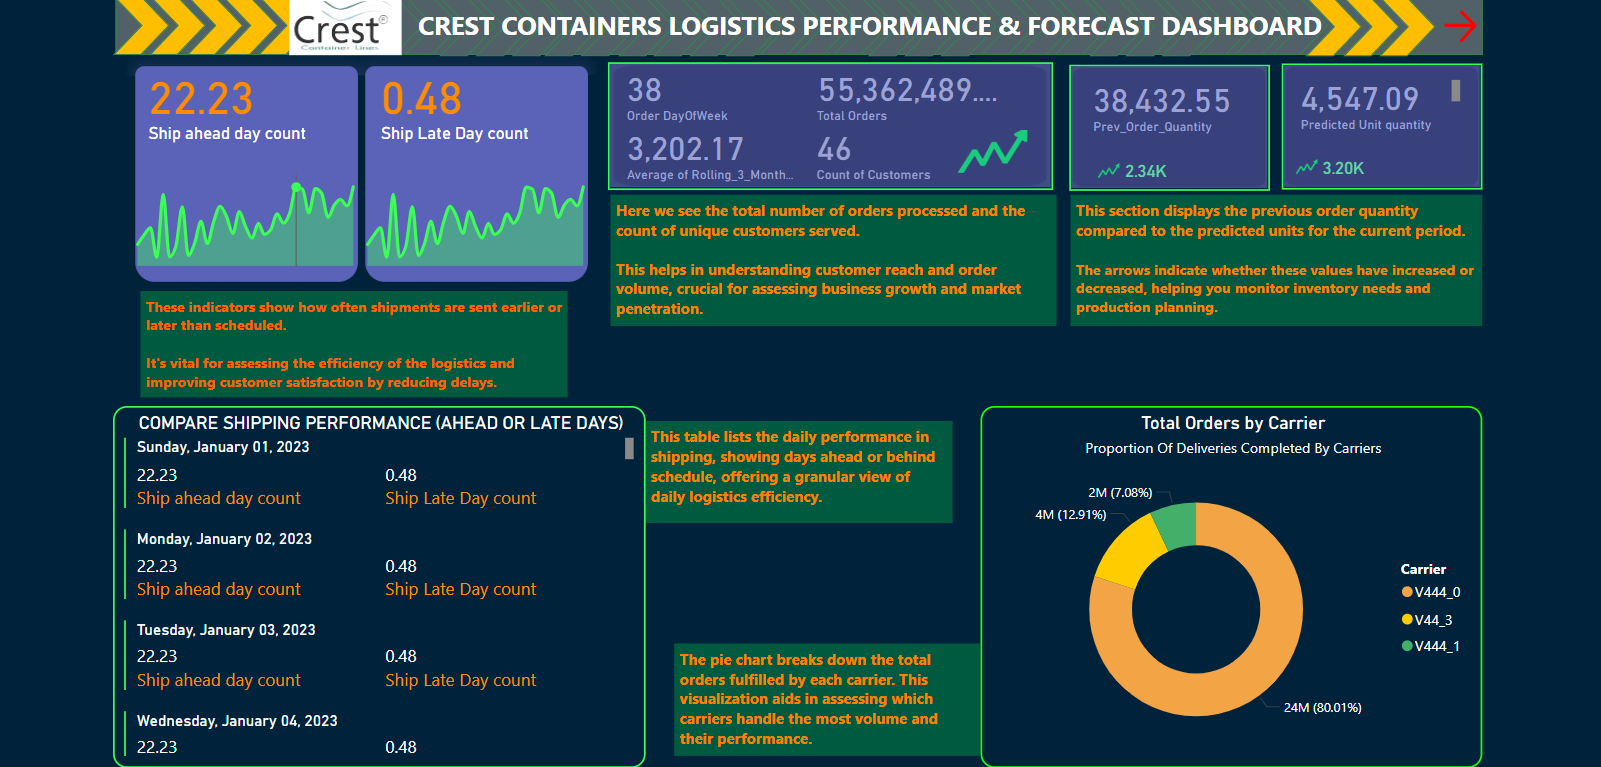

This screenshot's page, from the dashboard's own definition file:
{"tool":"powerbi","page":{"name":"Main interface","canvas":[1280,720],"ordinal":0},"visuals":[{"type":"shape","box":[2.5,0,1275.4,55],"z":0},{"type":"shape","box":[0,0,52.6,55],"z":1000},{"type":"actionButton","box":[1236.3,8.6,41.6,40.4],"z":2000},{"type":"shape","box":[34.2,0,52.6,55],"z":3000},{"type":"shape","box":[68.5,0,52.6,55],"z":4000},{"type":"shape","box":[101,0.2,52.6,55],"z":5000},{"type":"shape","box":[135.2,0.2,52.6,55],"z":6000},{"type":"shape","box":[169.5,0.2,52.6,55],"z":7000},{"type":"shape","box":[202.7,0.4,52.6,55],"z":8000},{"type":"shape","box":[237,0.4,52.6,55],"z":9000},{"type":"shape","box":[271.2,0.4,52.6,55],"z":10000},{"type":"shape","box":[303.7,0.7,52.6,55],"z":11000},{"type":"shape","box":[337.9,0.7,52.6,55],"z":12000},{"type":"shape","box":[372.2,0.7,52.6,55],"z":13000},{"type":"shape","box":[402.3,1.2,52.6,55],"z":14000},{"type":"shape","box":[436.5,1.2,52.6,55],"z":15000},{"type":"shape","box":[470.8,1.2,52.6,55],"z":16000},{"type":"shape","box":[503.3,1.4,52.6,55],"z":17000},{"type":"shape","box":[537.5,1.4,52.6,55],"z":18000},{"type":"shape","box":[571.7,1.4,52.6,55],"z":19000},{"type":"shape","box":[602.8,0.4,52.6,55],"z":20000},{"type":"shape","box":[637.1,0.4,52.6,55],"z":21000},{"type":"shape","box":[671.3,0.4,52.6,55],"z":22000},{"type":"shape","box":[703.8,0.7,52.6,55],"z":23000},{"type":"shape","box":[738,0.7,52.6,55],"z":24000},{"type":"shape","box":[772.3,0.7,52.6,55],"z":25000},{"type":"shape","box":[809.2,0.4,52.6,55],"z":26000},{"type":"shape","box":[843.5,0.4,52.6,55],"z":27000},{"type":"shape","box":[877.7,0.4,52.6,55],"z":28000},{"type":"shape","box":[910.2,0.7,52.6,55],"z":29000},{"type":"shape","box":[944.5,0.7,52.6,55],"z":30000},{"type":"shape","box":[978.7,0.7,52.6,55],"z":31000},{"type":"shape","box":[1011.7,0.4,52.6,55],"z":32000},{"type":"shape","box":[1046,0.4,52.6,55],"z":33000},{"type":"shape","box":[1080.2,0.4,52.6,55],"z":34000},{"type":"shape","box":[1112.7,0.7,52.6,55],"z":35000},{"type":"shape","box":[1147,0.7,52.6,55],"z":36000},{"type":"shape","box":[1181.2,0.7,52.6,55],"z":37000},{"type":"textbox","box":[269,6.1,873.1,42.8],"z":38000},{"type":"image","box":[6.4,32,234.8,256.8],"z":39000},{"type":"image","box":[163.9,0,105.2,55],"z":40000},{"type":"actionButton","box":[1089.6,63.2,187.1,117.4],"z":41000},{"type":"multiRowCard","fields":{"Values":["Sum(predicted_orders_2024.Ship ahead day count)"]},"box":[28.4,66.2,189.5,86.8],"z":42000},{"type":"areaChart","fields":{"Y":["Sum(Sales.Sales)"],"Category":["Date.Month Start Date"]},"box":[8.6,154.3,231.1,103.9],"z":43000},{"type":"image","box":[221.3,32,234.8,256.8],"z":44000},{"type":"multiRowCard","fields":{"Values":["Sum(predicted_orders_2024.Ship Late Day count)"]},"box":[244.6,66.2,188.3,86.8],"z":45000},{"type":"actionButton","box":[892.3,63.9,187.1,117.4],"z":46000},{"type":"multiRowCard","fields":{"Values":["Sum(predicted_orders_2024.Prev_Order_Quantity)"]},"box":[909.8,76.1,159,69.7],"z":47000},{"type":"PBI_CV_81BBAD08_3ADD_466C_8819_9FACA21A6B8F","fields":{"imageUrl":["Icons.URL"]},"box":[914.3,148.1,30,30],"z":48000},{"type":"card","fields":{"Values":["Max(logistics_predictions.Weight)"]},"box":[932.7,144,61.5,40.3],"z":49000},{"type":"multiRowCard","fields":{"Values":["Monthly_Sales_Forecast.Predicted Unit quantity"]},"box":[1102.8,73.4,159,68.8],"z":50000},{"type":"PBI_CV_81BBAD08_3ADD_466C_8819_9FACA21A6B8F","fields":{"imageUrl":["Icons.URL"]},"box":[1098.5,144.9,30,30],"z":51000},{"type":"card","fields":{"Values":["Avg(logistics_predictions.Unit quantity)"]},"box":[1116.9,140.8,61.5,40.3],"z":52000},{"type":"actionButton","box":[462,62.4,415.4,118.9],"z":53000},{"type":"multiRowCard","fields":{"Values":["Sum(predicted_orders_2024.Order DayOfWeek)","Sum(predicted_orders_2024.Total Orders)","Avg(predicted_orders_2024.Rolling_3_Month_Avg)","logistics_predictions.Customers"]},"box":[474.9,65.2,363.8,113.2],"z":54000},{"type":"PBI_CV_81BBAD08_3ADD_466C_8819_9FACA21A6B8F","fields":{"imageUrl":["Icons.URL"]},"box":[782.9,119.7,74.5,50.1],"z":55000},{"type":"areaChart","fields":{"Y":["Sum(Sales.Sales)"],"Category":["Date.Month Start Date"]},"box":[222.6,154.3,231.1,103.9],"z":56000},{"type":"textbox","box":[892.7,185.9,384,122.3],"z":57000},{"type":"textbox","box":[463.4,185.9,415.8,122.3],"z":58000},{"type":"textbox","box":[25.2,275.6,398.6,99],"z":59000},{"type":"multiRowCard","title":"COMPARE SHIPPING PERFORMANCE (AHEAD OR LATE DAYS)","fields":{"Values":["OrderList.Order Date","Sum(predicted_orders_2024.Ship ahead day count)","Sum(predicted_orders_2024.Ship Late Day count)"]},"box":[0,382.8,496.5,337.5],"z":60000},{"type":"textbox","box":[496.5,396.2,286.1,95.4],"z":61000},{"type":"donutChart","fields":{"Category":["total_orders_per_carrier.Carrier"],"Y":["Sum(total_orders_per_carrier.Total Orders)"]},"box":[809.5,382.8,468.3,337.5],"z":62000},{"type":"textbox","box":[523.4,604.1,284.9,105.2],"z":63000}]}

Visuals, with their boxes on the page's 1280x720 design canvas (x1, y1, x2, y2). These are canvas units, not pixel positions in the 1601x767 screenshot, which may show the page scaled, cropped or inside an application window:
shape: (left=2, top=0, right=1278, bottom=55)
shape: (left=0, top=0, right=53, bottom=55)
actionButton: (left=1236, top=9, right=1278, bottom=49)
shape: (left=34, top=0, right=87, bottom=55)
shape: (left=68, top=0, right=121, bottom=55)
shape: (left=101, top=0, right=154, bottom=55)
shape: (left=135, top=0, right=188, bottom=55)
shape: (left=170, top=0, right=222, bottom=55)
shape: (left=203, top=0, right=255, bottom=55)
shape: (left=237, top=0, right=290, bottom=55)
shape: (left=271, top=0, right=324, bottom=55)
shape: (left=304, top=1, right=356, bottom=56)
shape: (left=338, top=1, right=390, bottom=56)
shape: (left=372, top=1, right=425, bottom=56)
shape: (left=402, top=1, right=455, bottom=56)
shape: (left=436, top=1, right=489, bottom=56)
shape: (left=471, top=1, right=523, bottom=56)
shape: (left=503, top=1, right=556, bottom=56)
shape: (left=538, top=1, right=590, bottom=56)
shape: (left=572, top=1, right=624, bottom=56)
shape: (left=603, top=0, right=655, bottom=55)
shape: (left=637, top=0, right=690, bottom=55)
shape: (left=671, top=0, right=724, bottom=55)
shape: (left=704, top=1, right=756, bottom=56)
shape: (left=738, top=1, right=791, bottom=56)
shape: (left=772, top=1, right=825, bottom=56)
shape: (left=809, top=0, right=862, bottom=55)
shape: (left=844, top=0, right=896, bottom=55)
shape: (left=878, top=0, right=930, bottom=55)
shape: (left=910, top=1, right=963, bottom=56)
shape: (left=944, top=1, right=997, bottom=56)
shape: (left=979, top=1, right=1031, bottom=56)
shape: (left=1012, top=0, right=1064, bottom=55)
shape: (left=1046, top=0, right=1099, bottom=55)
shape: (left=1080, top=0, right=1133, bottom=55)
shape: (left=1113, top=1, right=1165, bottom=56)
shape: (left=1147, top=1, right=1200, bottom=56)
shape: (left=1181, top=1, right=1234, bottom=56)
textbox: (left=269, top=6, right=1142, bottom=49)
image: (left=6, top=32, right=241, bottom=289)
image: (left=164, top=0, right=269, bottom=55)
actionButton: (left=1090, top=63, right=1277, bottom=181)
multiRowCard - Sum(predicted_orders_2024.Ship ahead day count): (left=28, top=66, right=218, bottom=153)
areaChart - Sum(Sales.Sales) x Date.Month Start Date: (left=9, top=154, right=240, bottom=258)
image: (left=221, top=32, right=456, bottom=289)
multiRowCard - Sum(predicted_orders_2024.Ship Late Day count): (left=245, top=66, right=433, bottom=153)
actionButton: (left=892, top=64, right=1079, bottom=181)
multiRowCard - Sum(predicted_orders_2024.Prev_Order_Quantity): (left=910, top=76, right=1069, bottom=146)
PBI_CV_81BBAD08_3ADD_466C_8819_9FACA21A6B8F - Icons.URL: (left=914, top=148, right=944, bottom=178)
card - Max(logistics_predictions.Weight): (left=933, top=144, right=994, bottom=184)
multiRowCard - Monthly_Sales_Forecast.Predicted Unit quantity: (left=1103, top=73, right=1262, bottom=142)
PBI_CV_81BBAD08_3ADD_466C_8819_9FACA21A6B8F - Icons.URL: (left=1098, top=145, right=1128, bottom=175)
card - Avg(logistics_predictions.Unit quantity): (left=1117, top=141, right=1178, bottom=181)
actionButton: (left=462, top=62, right=877, bottom=181)
multiRowCard - Sum(predicted_orders_2024.Order DayOfWeek) x Sum(predicted_orders_2024.Total Orders): (left=475, top=65, right=839, bottom=178)
PBI_CV_81BBAD08_3ADD_466C_8819_9FACA21A6B8F - Icons.URL: (left=783, top=120, right=857, bottom=170)
areaChart - Sum(Sales.Sales) x Date.Month Start Date: (left=223, top=154, right=454, bottom=258)
textbox: (left=893, top=186, right=1277, bottom=308)
textbox: (left=463, top=186, right=879, bottom=308)
textbox: (left=25, top=276, right=424, bottom=375)
"COMPARE SHIPPING PERFORMANCE (AHEAD OR LATE DAYS)" multiRowCard: (left=0, top=383, right=496, bottom=720)
textbox: (left=496, top=396, right=783, bottom=492)
donutChart - total_orders_per_carrier.Carrier x Sum(total_orders_per_carrier.Total Orders): (left=810, top=383, right=1278, bottom=720)
textbox: (left=523, top=604, right=808, bottom=709)
